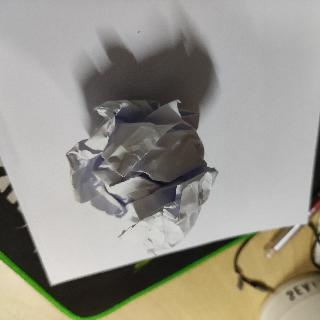8/可回收垃圾/纸: (66, 97, 218, 245)
